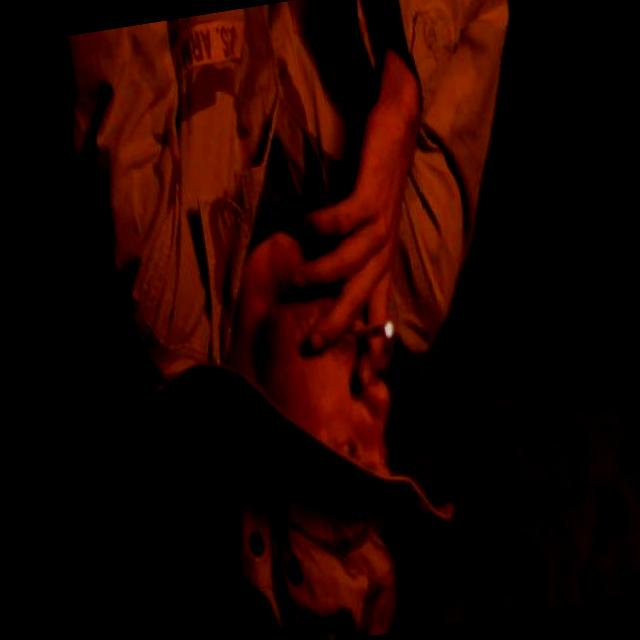cigarette: (349, 317, 398, 347)
